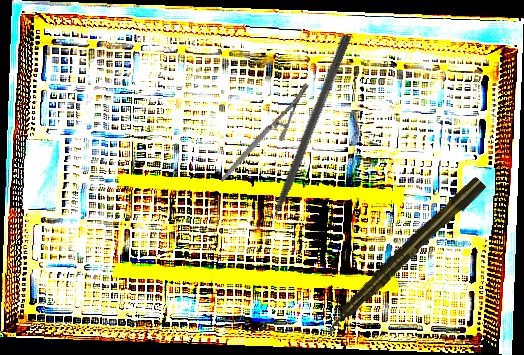Handpiece: (320, 174, 488, 338)
Needle Holder: (199, 82, 330, 182)
Pusher: (257, 32, 353, 244)
